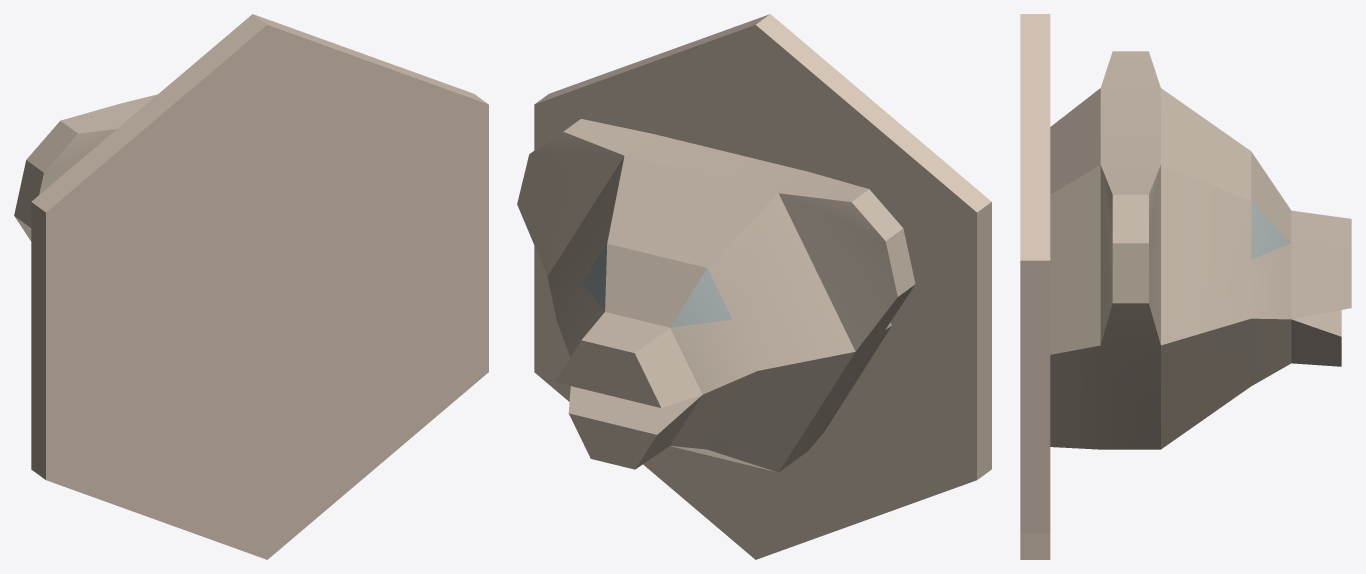
Rendered from furn_bear.glb.
The picture shows the model from 3 angles, left to right: view 1: azimuth 30°, elevation 25°; view 2: azimuth 150°, elevation 25°; view 3: azimuth 270°, elevation 25°; orthographic projection. The views are drawn at different scales.
Size of the model in its own units: 0.7794 by 0.9 by 0.495.
